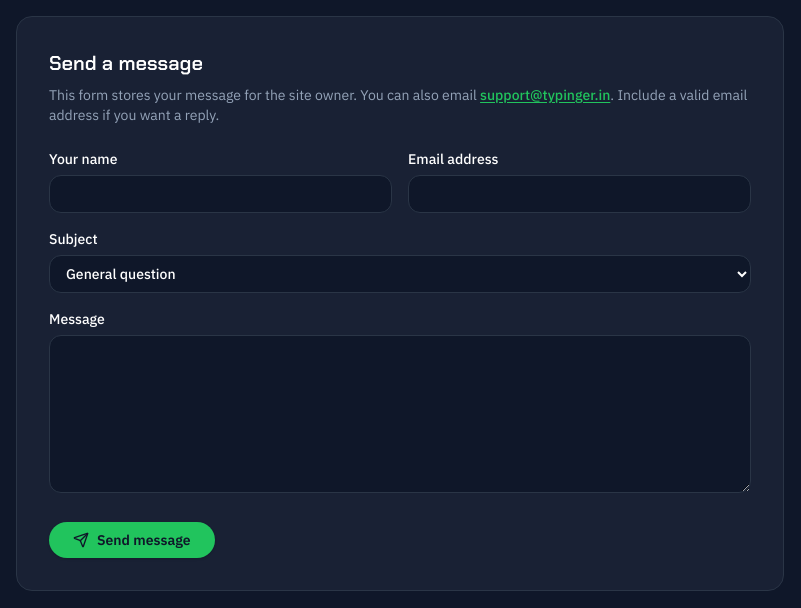
ContactForm › sends a message and confirms it was stored
Type "Ada" into the field with test id "contact-name" at [220, 194], box x1=49 y1=175 x2=392 y2=213
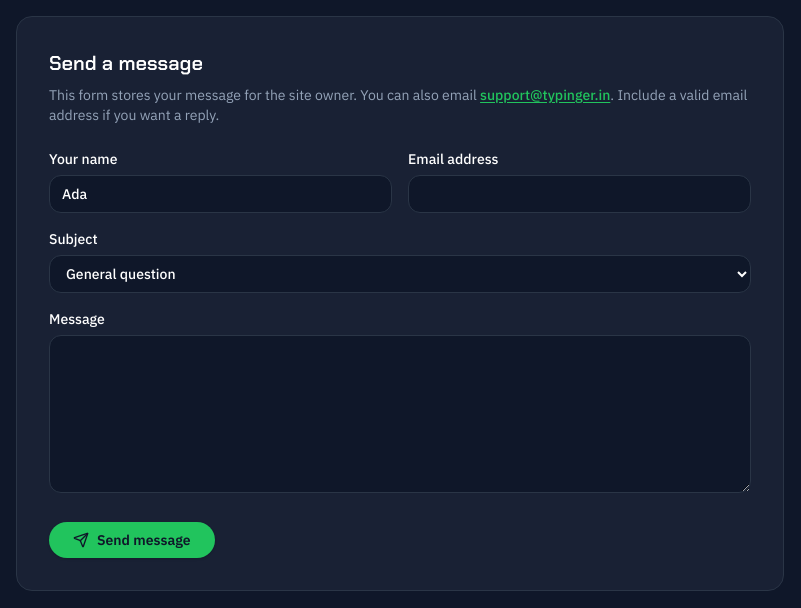
Type "ada@example.com" into the field with test id "contact-email" at [580, 194], box x1=408 y1=175 x2=751 y2=213
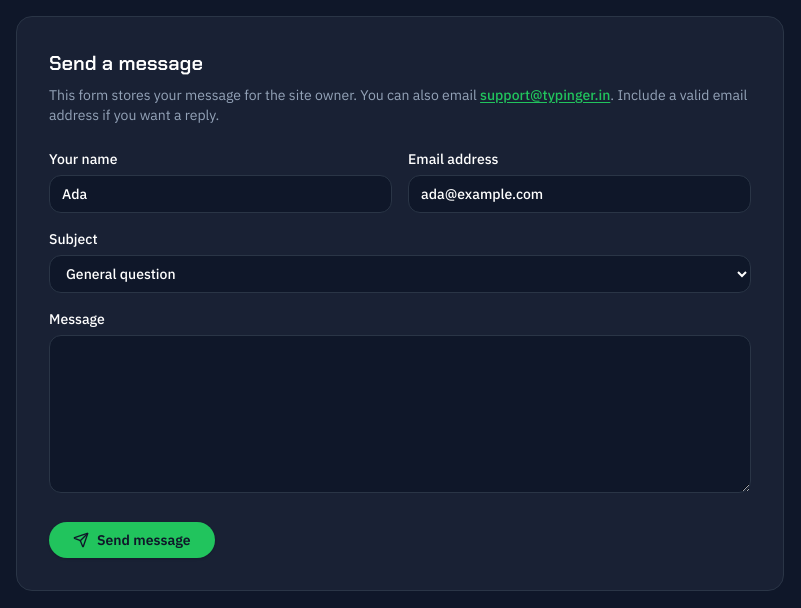
Type "The leaderboard has a result I would like reviewed." into the text box with test id "contact-message" at [400, 414], box x1=49 y1=335 x2=751 y2=493
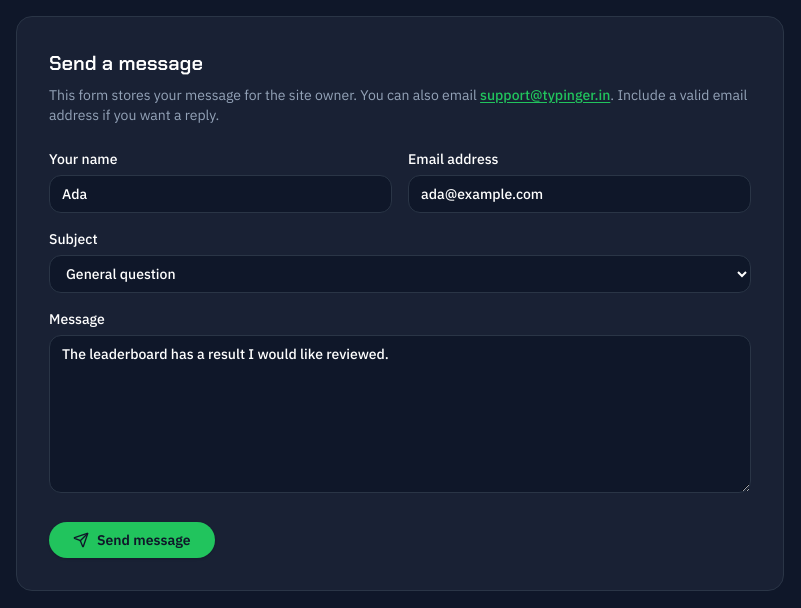
Click the button with test id "contact-submit" at [132, 540], box x1=49 y1=522 x2=215 y2=558
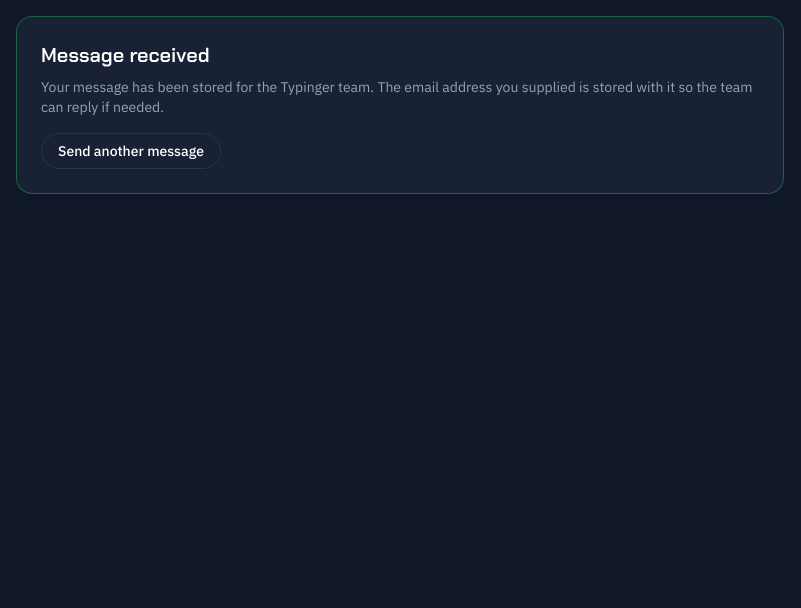
Expected: the message with test id "contact-success" is shown, x1=16 y1=16 x2=784 y2=194
